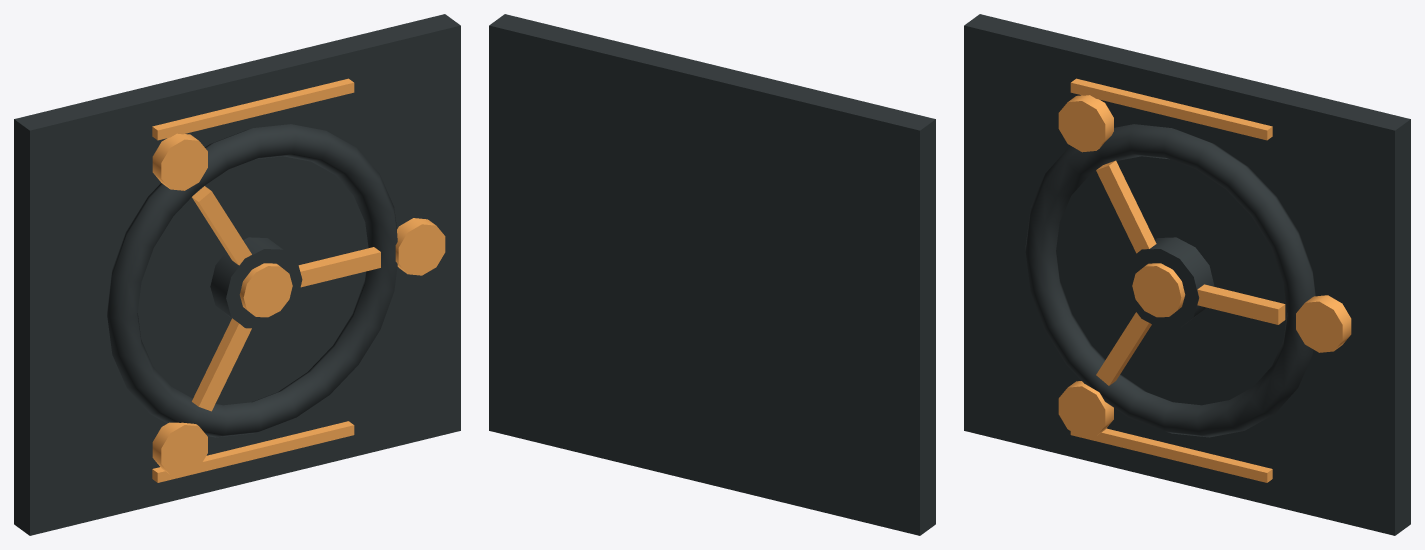
File: exhibit-working-principles.v1.glb
The picture shows the model from 3 angles, left to right: view 1: azimuth 30°, elevation 25°; view 2: azimuth 150°, elevation 25°; view 3: azimuth 330°, elevation 25°; orthographic projection.
Parts seen in each view (by area): view 1: WorkingPrinciplesStructure, WorkingPrinciplesAccent; view 2: WorkingPrinciplesStructure; view 3: WorkingPrinciplesStructure, WorkingPrinciplesAccent.
Part boxes in pixels (x1,y1,x2,y2): WorkingPrinciplesStructure: (14, 14, 460, 535); WorkingPrinciplesAccent: (152, 78, 445, 482); WorkingPrinciplesStructure: (489, 14, 935, 535); WorkingPrinciplesStructure: (964, 14, 1410, 535); WorkingPrinciplesAccent: (1058, 78, 1351, 482).
Bounding box in the file's own units: 1.58 × 1.42 × 0.245.
